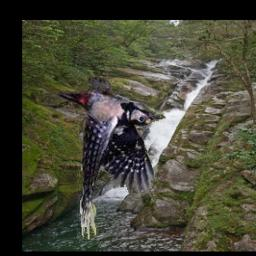Woodpecker: (57, 79, 166, 241)
